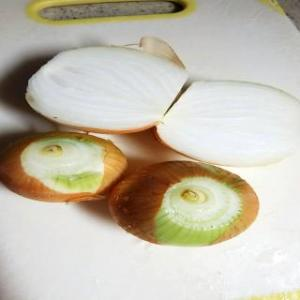onion: (25, 36, 187, 130), (108, 161, 260, 247), (156, 81, 300, 167), (0, 132, 126, 200)
